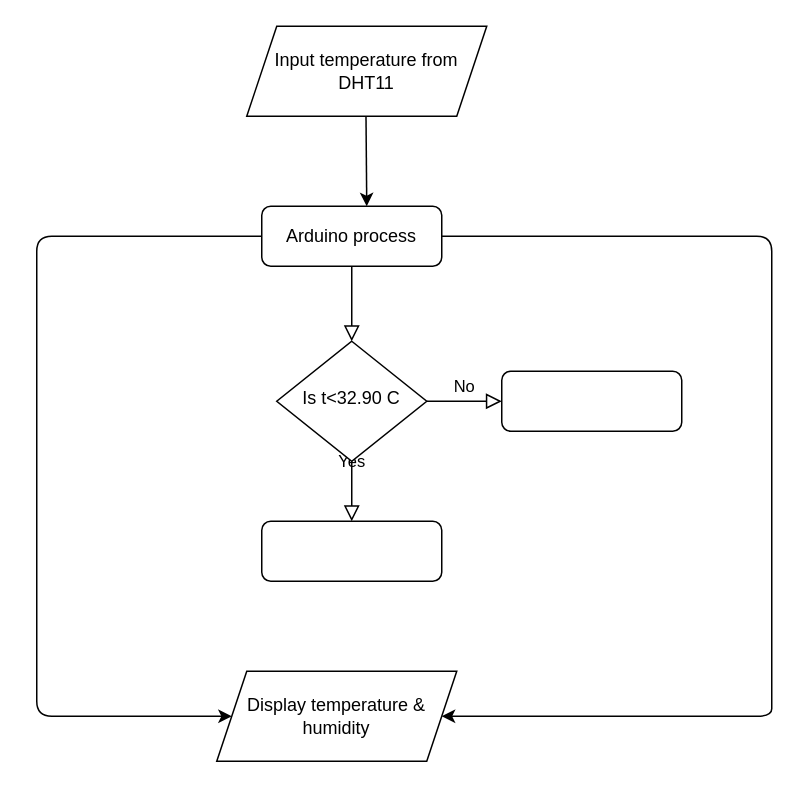
The diagram is 810 pixels wide and 788 high, and some of its shapes have lost their labels. Each missing label, with the centre of its shape:
Turn on bulb: (x=351, y=550)
Turn on fan: (x=591, y=400)
